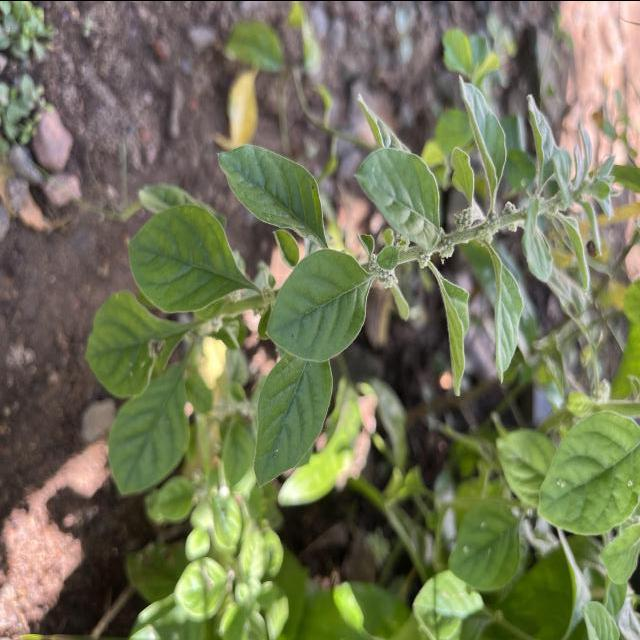Aerva lanata: (126, 201, 253, 318), (260, 246, 376, 364), (214, 141, 332, 247), (250, 356, 336, 492)
